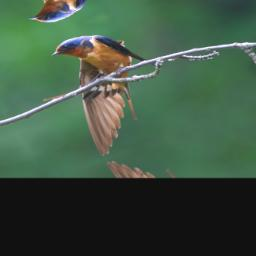Swallow: (32, 19, 196, 157)
